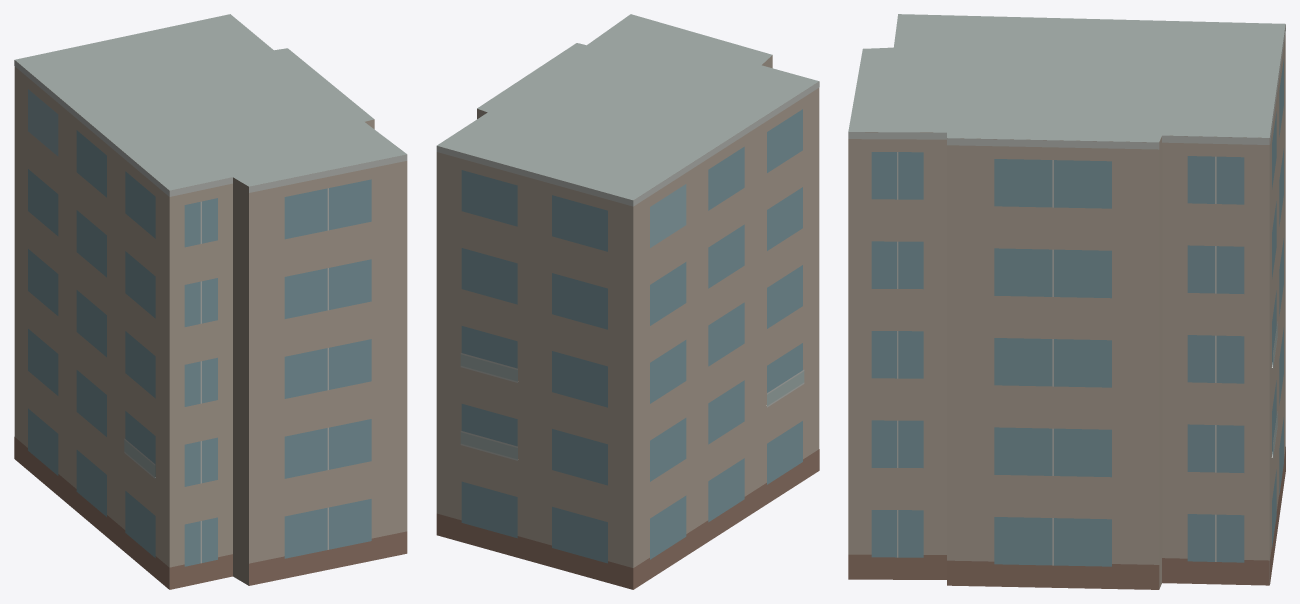
The model's file is survey-upis-32754086.glb.
3 renders of one model, left to right at view 1: azimuth 30°, elevation 25°; view 2: azimuth 150°, elevation 25°; view 3: azimuth 270°, elevation 25°, orthographic. The views are drawn at different scales.
Parts seen in each view (by area): view 1: survey-upis-32754086.tmp; view 2: survey-upis-32754086.tmp; view 3: survey-upis-32754086.tmp.
Boxes of the visible parts, bbox=[...] form: survey-upis-32754086.tmp: bbox=[14, 14, 407, 589]; survey-upis-32754086.tmp: bbox=[436, 14, 819, 589]; survey-upis-32754086.tmp: bbox=[848, 14, 1285, 589].
Size of the model in its own units: 9.42 by 15.3 by 13.57.
